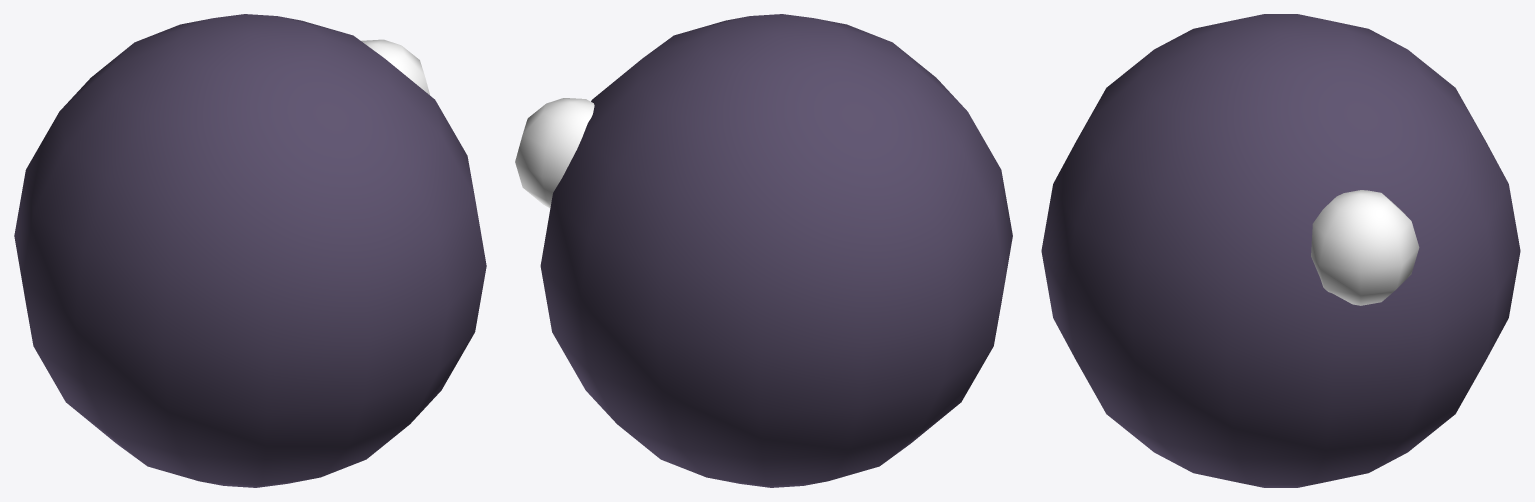
File: forget_pupil.glb
3 renders of one model, left to right at view 1: azimuth 30°, elevation 25°; view 2: azimuth 150°, elevation 25°; view 3: azimuth 270°, elevation 25°, orthographic.
Visible parts, largest first — view 1: forget_pupil; view 2: forget_pupil; view 3: forget_pupil.
Part boxes in pixels (<box>): forget_pupil: <box>14,14,486,487</box>; forget_pupil: <box>515,14,1012,487</box>; forget_pupil: <box>1041,14,1520,487</box>.
Bounding box in the file's own units: 0.1817 × 0.18 × 0.18.
